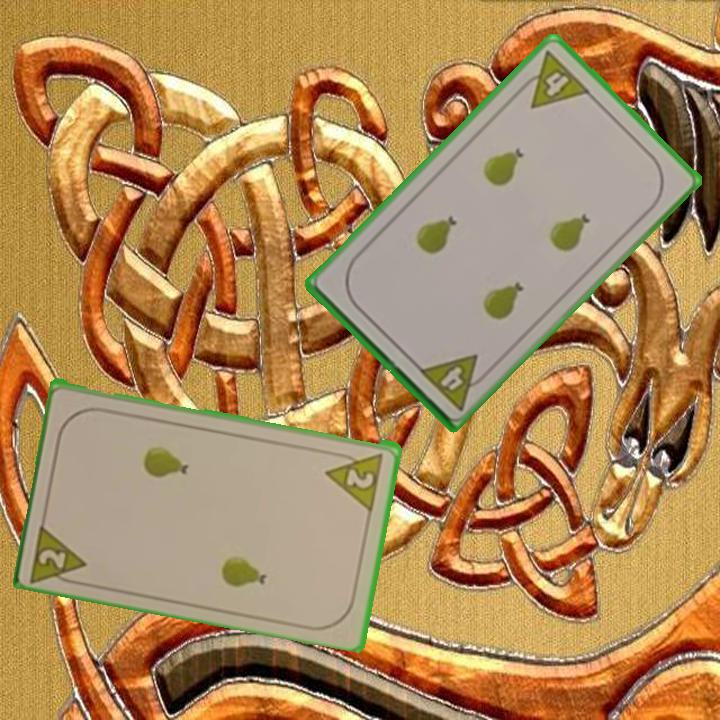2p: (27, 517, 91, 588), (343, 463, 377, 492)
4p: (512, 47, 593, 112), (415, 350, 494, 413)
